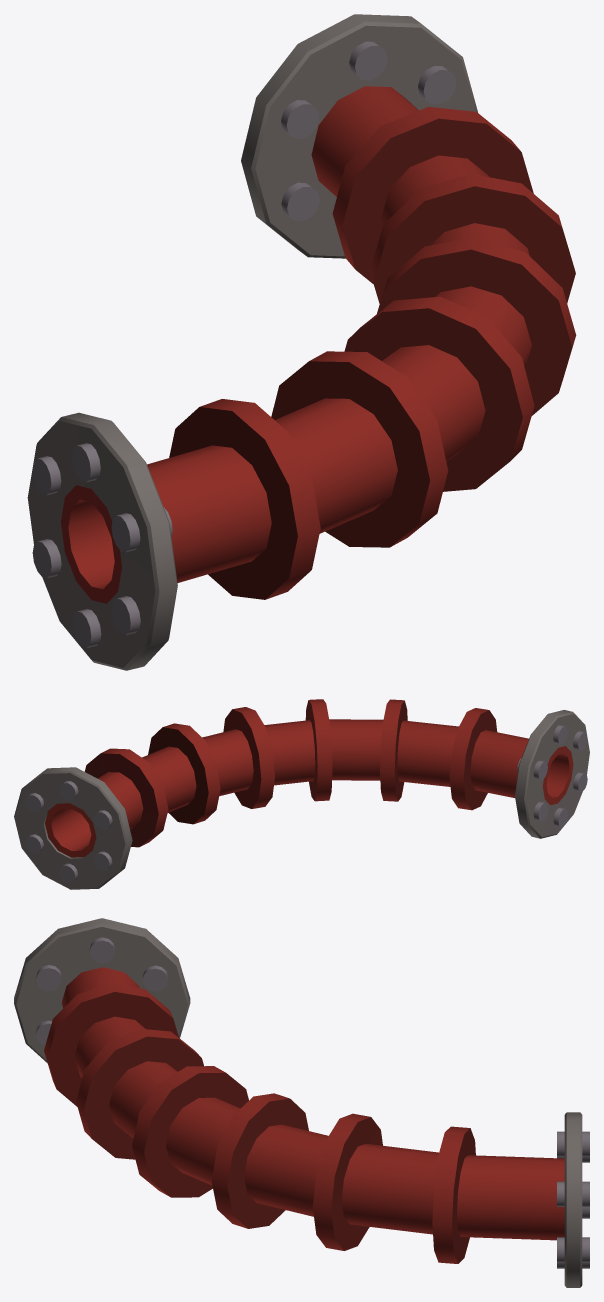
File: Pipe-CornerFixed.fbx
The picture shows the model from 3 angles, top to bottom: view 1: azimuth 30°, elevation 25°; view 2: azimuth 150°, elevation 25°; view 3: azimuth 270°, elevation 25°; orthographic projection. The views are drawn at different scales.
Visible parts, largest first — view 1: Pipe-CornerFixed; view 2: Pipe-CornerFixed; view 3: Pipe-CornerFixed.
Part boxes in pixels (x1,y1,x2,y2): Pipe-CornerFixed: (27, 14, 576, 670); Pipe-CornerFixed: (14, 699, 589, 889); Pipe-CornerFixed: (14, 918, 589, 1287).
Size of the model in its own units: 8.57 by 2.62 by 8.57.
